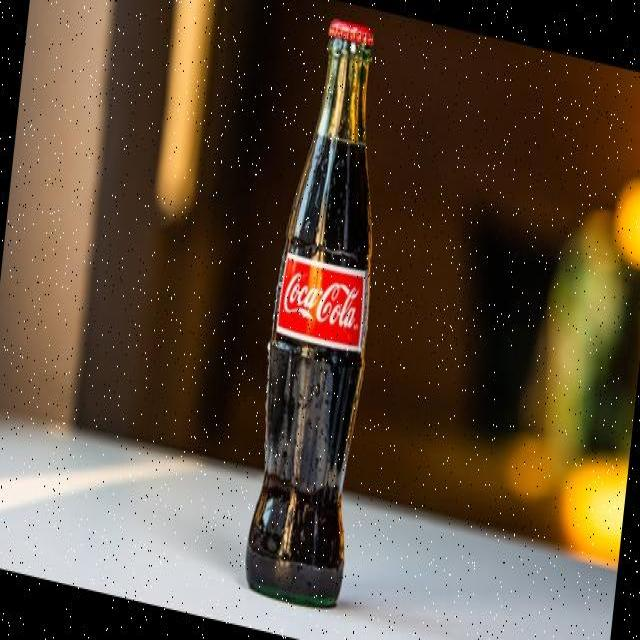coca-cola: (240, 3, 405, 618)
